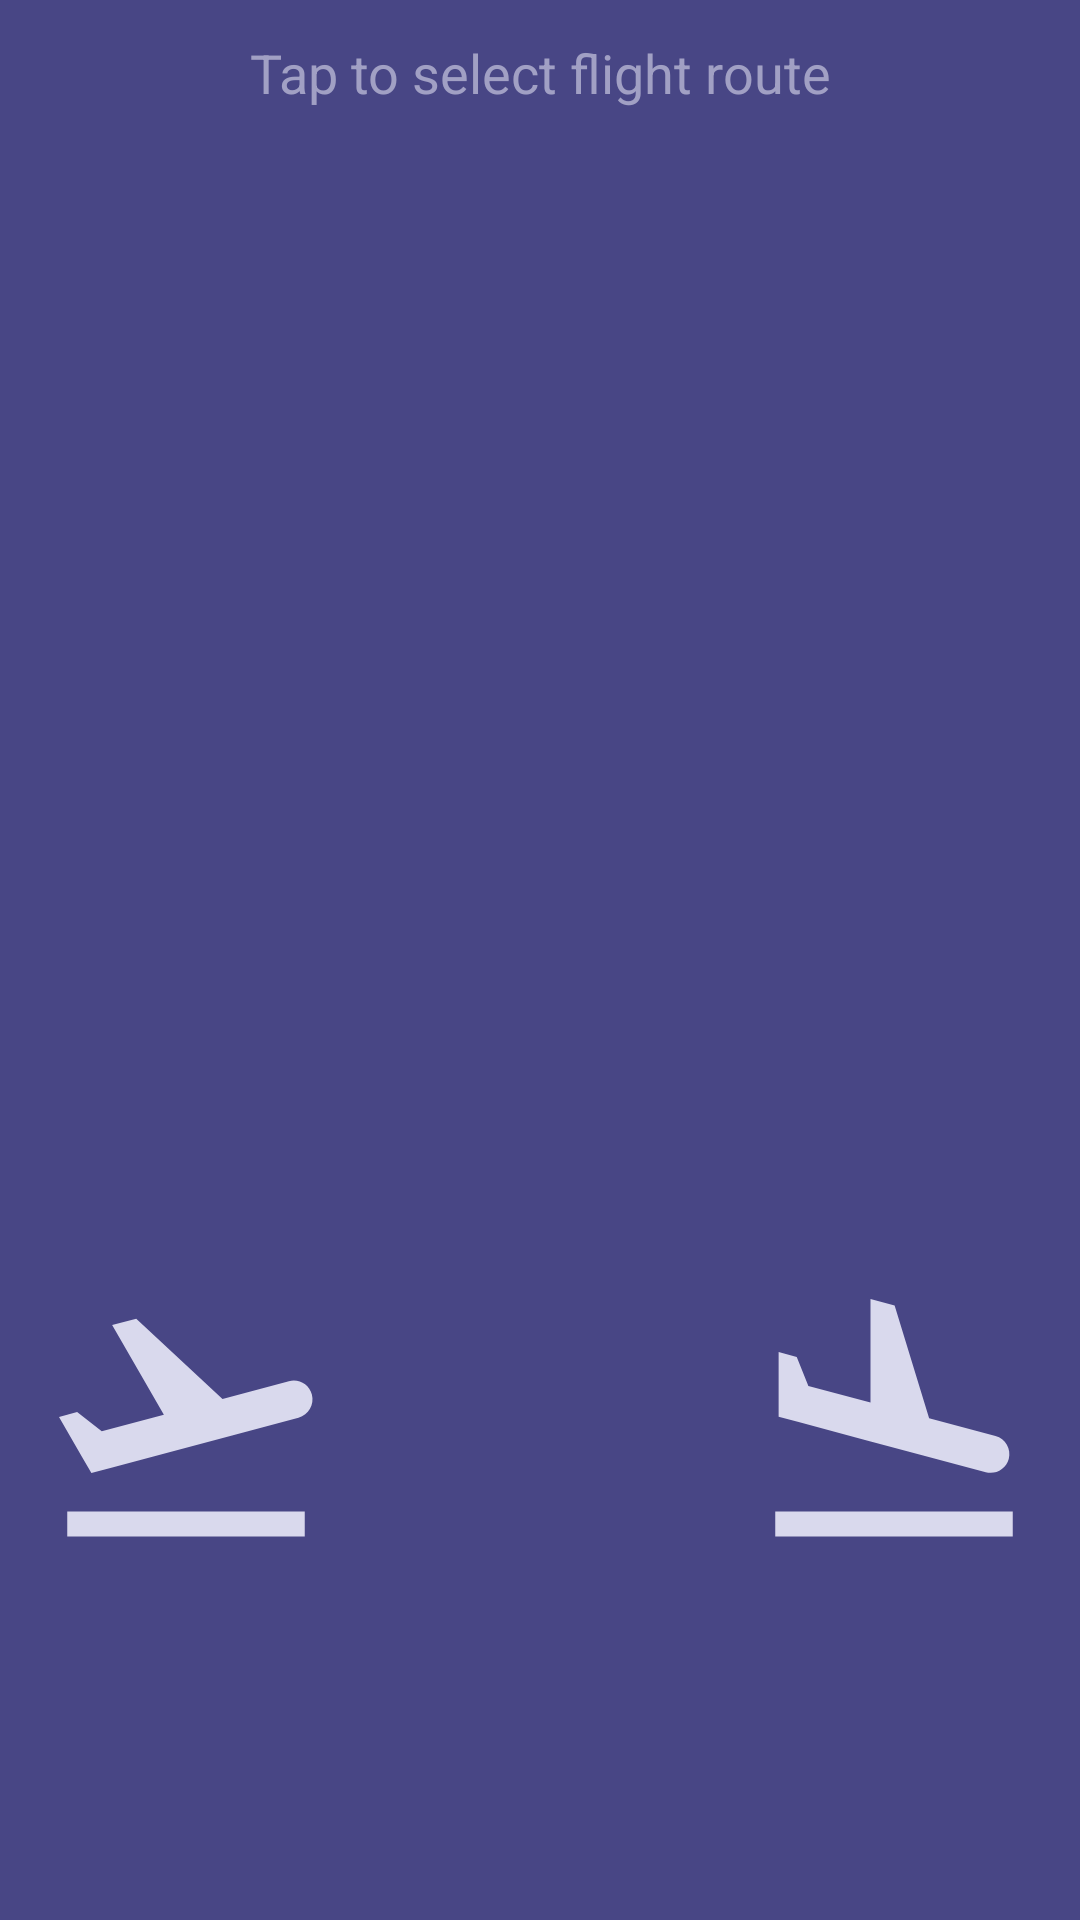

Screen size 1080 x 1920. Icon name, then its box in pixels as (x1, y1, x2, y2):
landing: (775, 1299, 1013, 1537)
take off: (59, 1319, 313, 1537)
